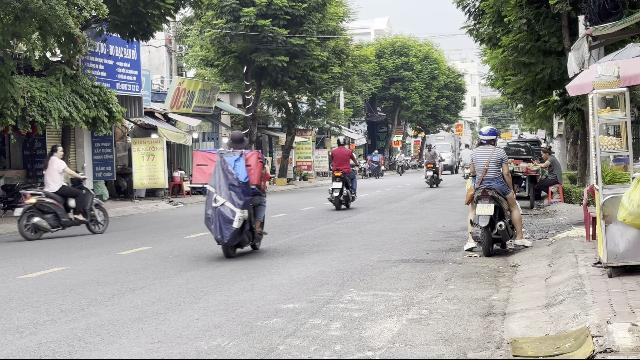helmet: (476, 126, 498, 146)
licenseplate: (476, 204, 494, 214)
motorcyclist: (11, 142, 110, 242), (201, 128, 271, 258), (460, 124, 524, 256)
nohelmet: (225, 130, 249, 152), (46, 144, 64, 162)
